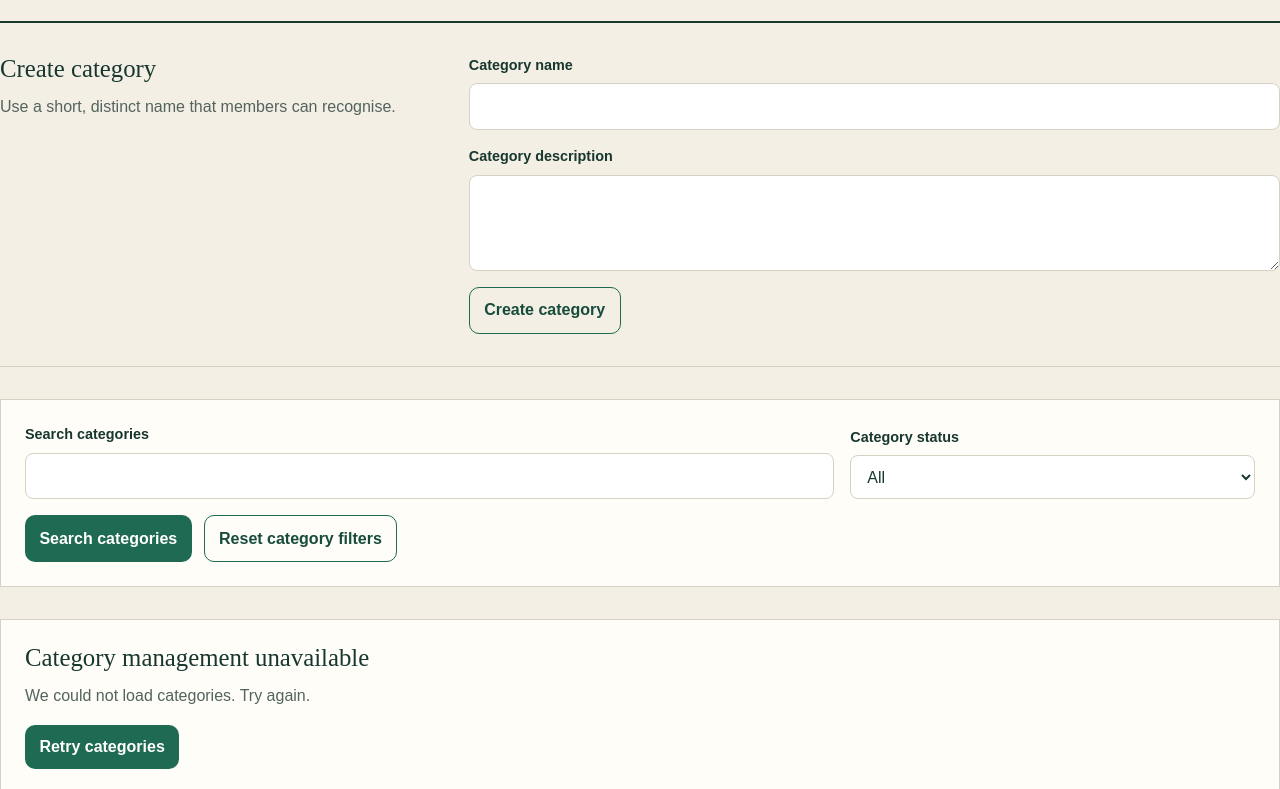
Test: supports initial retry and retains the last valid page on refresh failure
This screenshot has width=1280, height=789.
(page scrolled)
Expected: the heading "Category management unavailable" is shown, [25,644,369,671]
Click the button "Retry categories" at (102, 747), box [25,725,179,770]
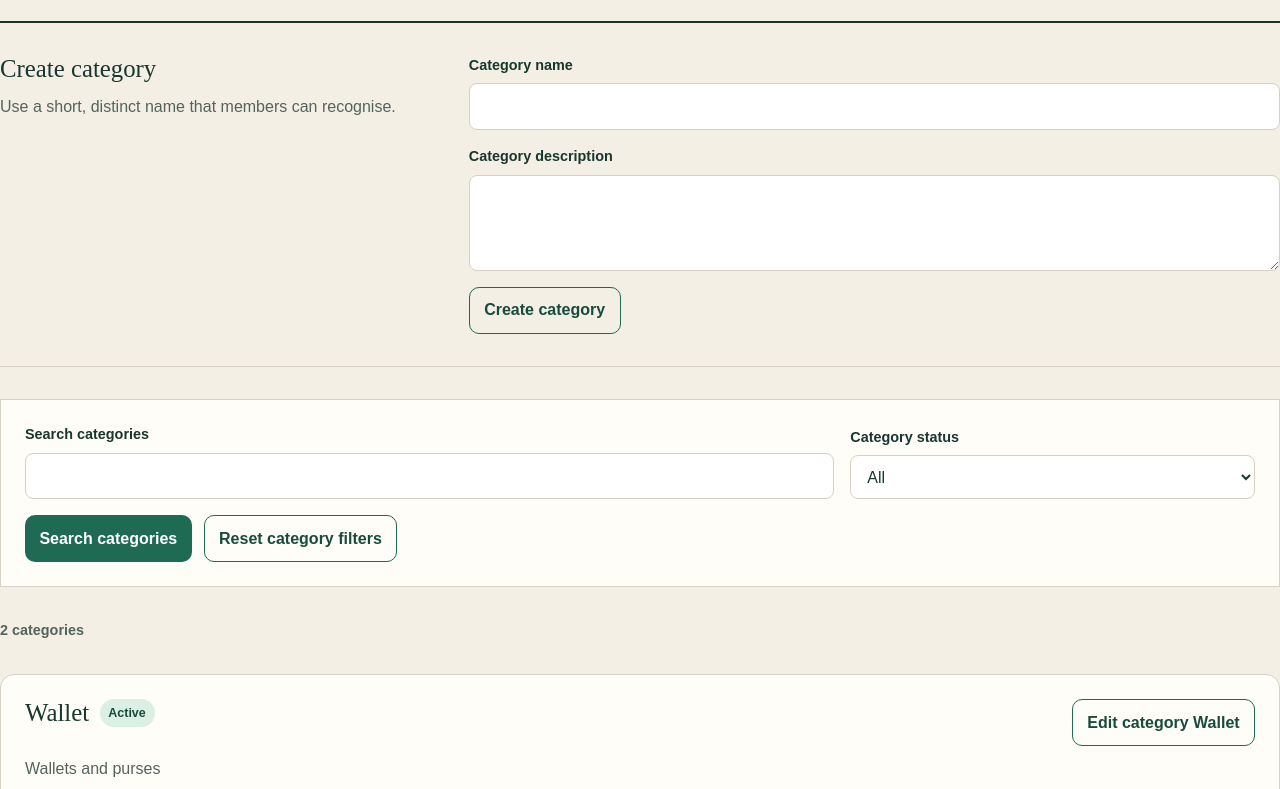
Now the heading "Wallet" is shown, box [25,699,89,728]
Select "Inactive" in the dropdown labelled "Category status" at (1053, 477), box [850,455,1255,499]
(page scrolled)
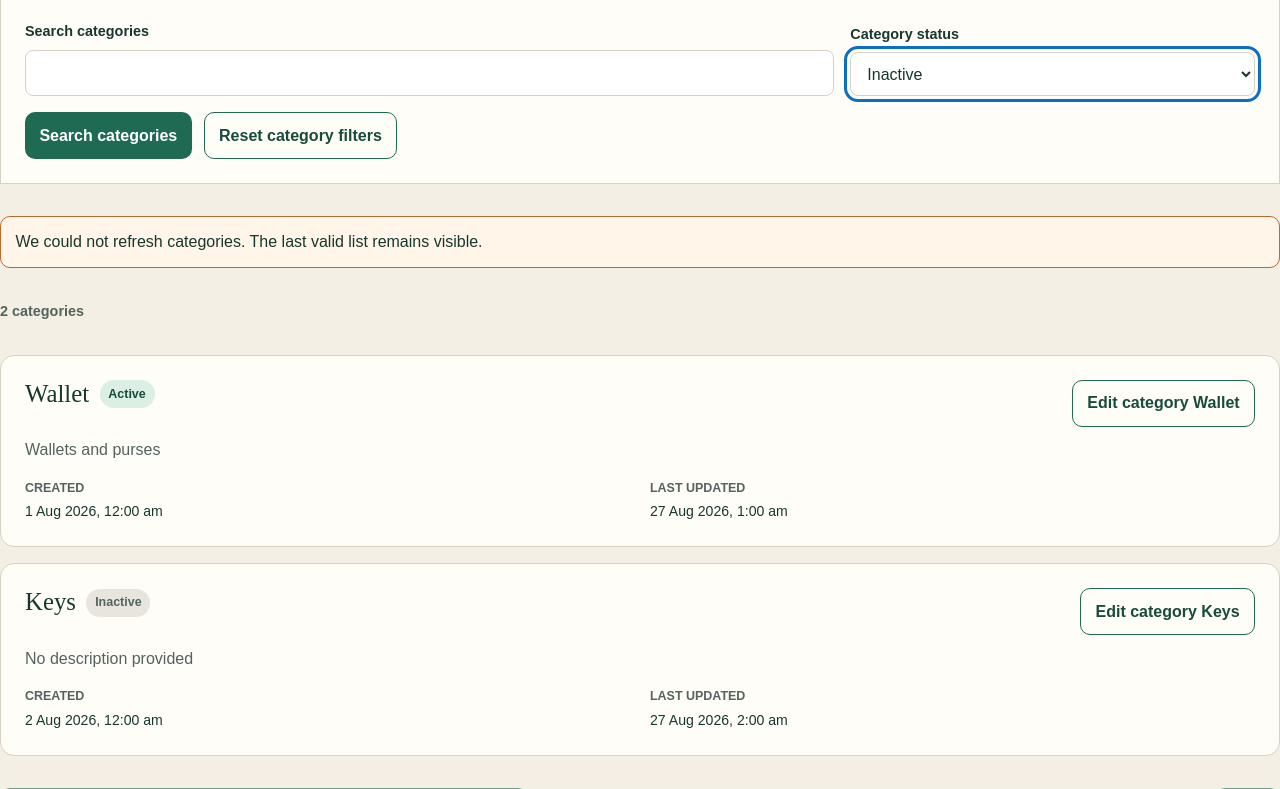
Now the heading "Wallet" is shown, box [25,380,89,408]
Now the message "We could not refresh categories. The last valid list remains visible." is shown, box [0,216,1279,268]
